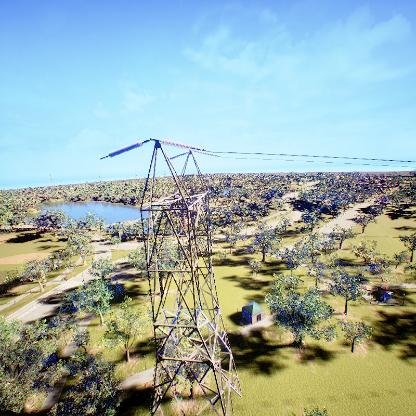tower: (92, 137, 240, 416)
